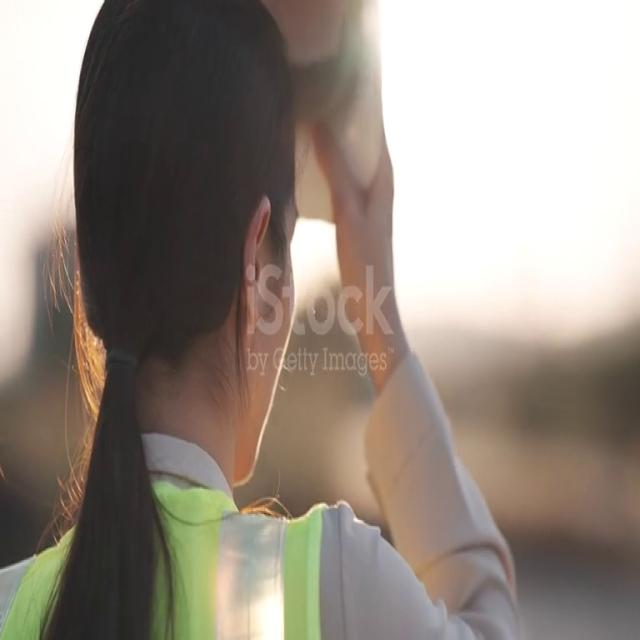capacete: (269, 4, 398, 243)
